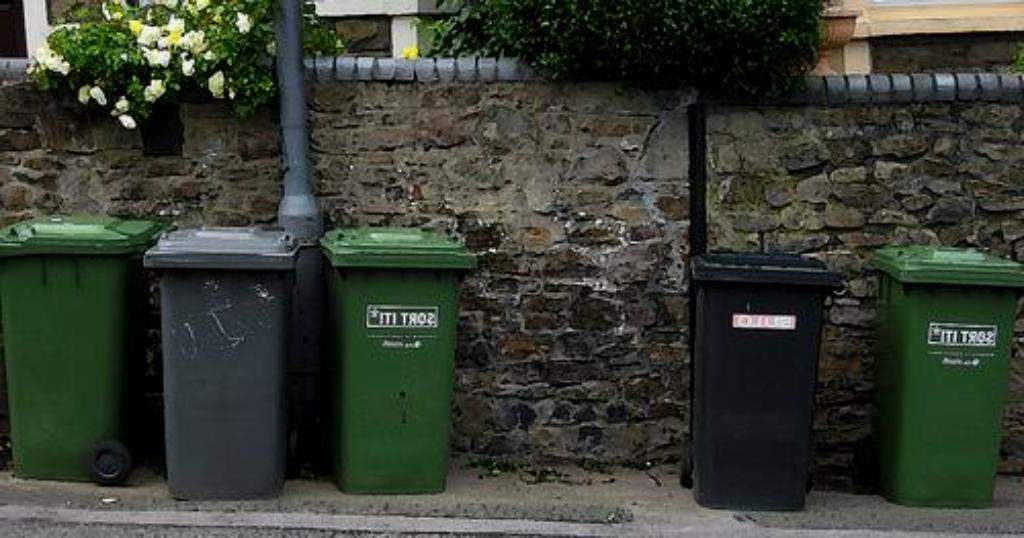dustbin: (666, 231, 848, 513), (305, 213, 467, 507), (851, 242, 1023, 516), (146, 215, 299, 508), (0, 207, 156, 487)
